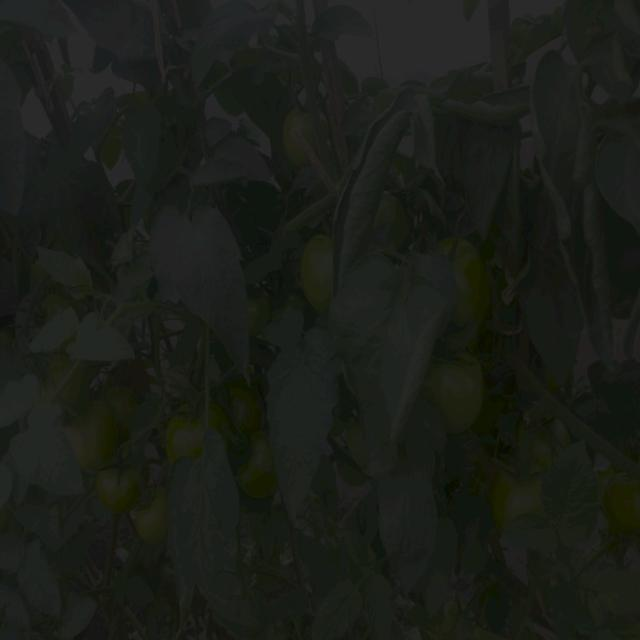tomato: (429, 350, 488, 431), (449, 241, 494, 331), (74, 397, 123, 470), (234, 427, 279, 496), (170, 403, 228, 452), (297, 236, 336, 304), (380, 196, 424, 246), (41, 356, 82, 408), (105, 462, 148, 507), (613, 473, 640, 544), (500, 475, 540, 522), (530, 414, 567, 464), (135, 489, 169, 539), (337, 421, 367, 477), (284, 109, 312, 163), (246, 285, 271, 332), (231, 385, 257, 425)
